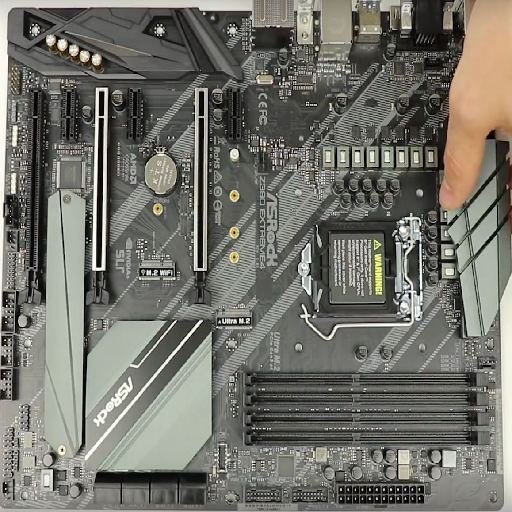CPU: (294, 213, 420, 322)
GPU: (187, 84, 214, 308), (86, 85, 112, 307)
MOTHERBOARD: (3, 5, 506, 510)
RAM: (238, 367, 493, 448)
SSD: (136, 257, 181, 286), (214, 308, 255, 332)
